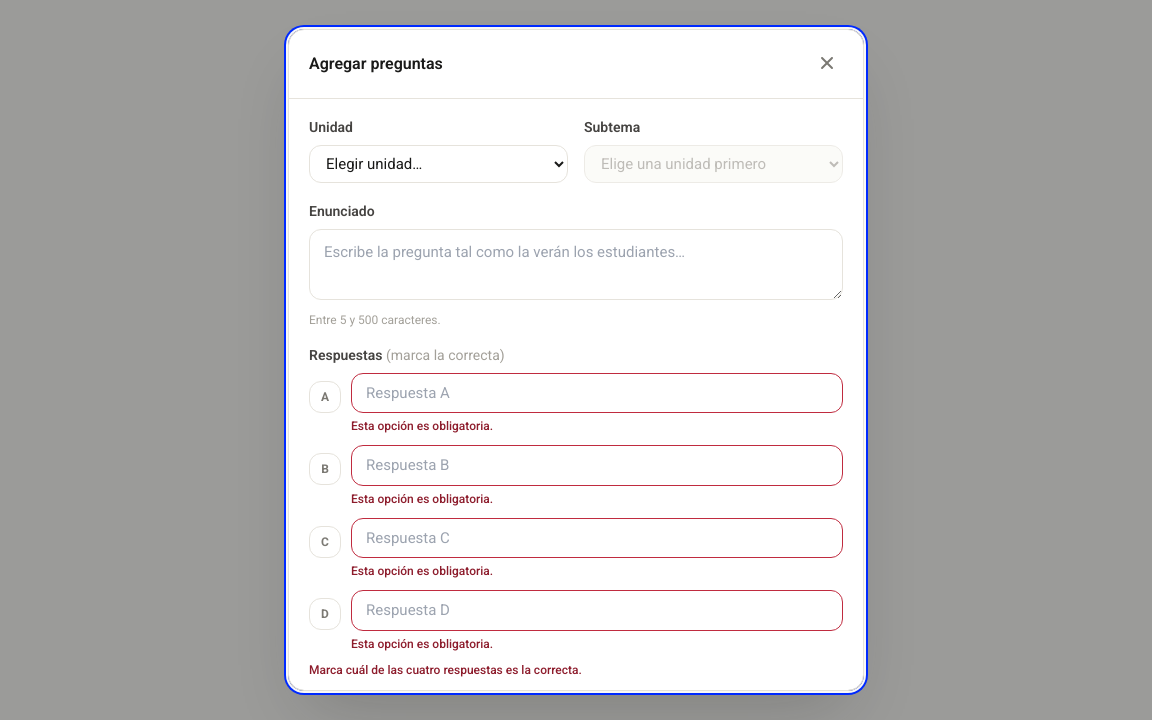
AddQuestionWizard › muestra los selectores de unidad y subtema dependientes
The image size is (1152, 720).
Expected: the dropdown labelled "Subtema" is disabled, [584,145,843,183]
Step 1. Select "Unidad 1 — . Generalidades" in the dropdown labelled "Unidad" → (438, 164), box [309,145,568,183]
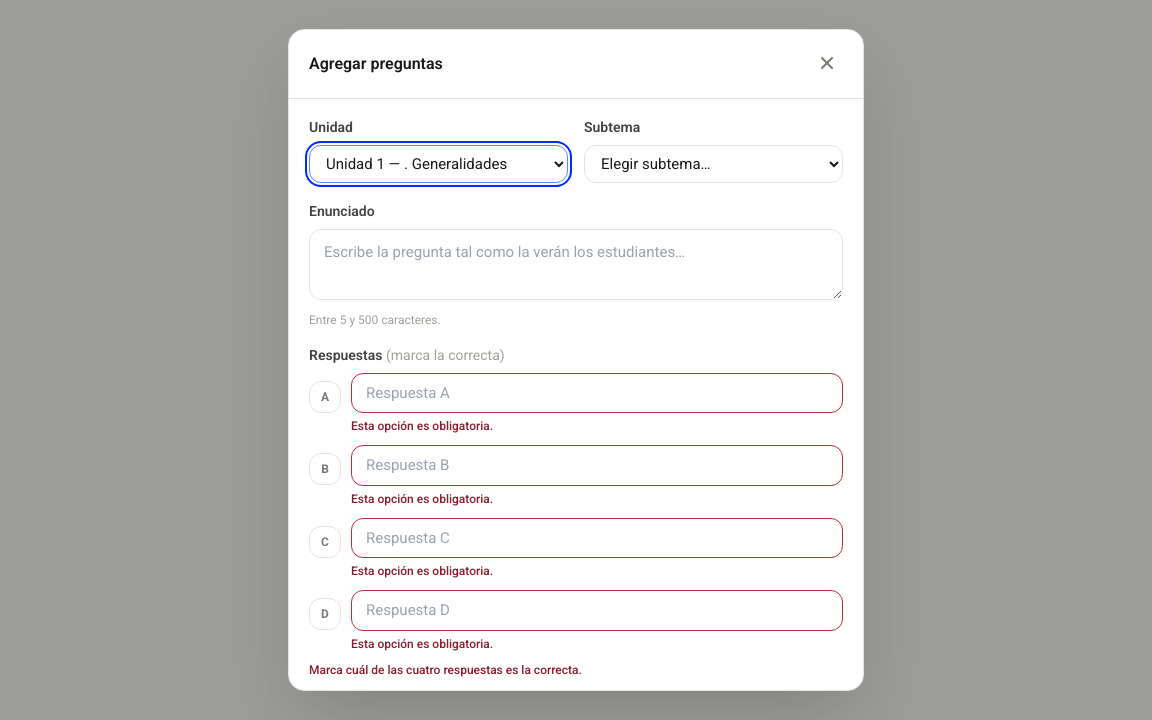
Expected: the dropdown labelled "Subtema" is enabled, [584,145,843,183]
